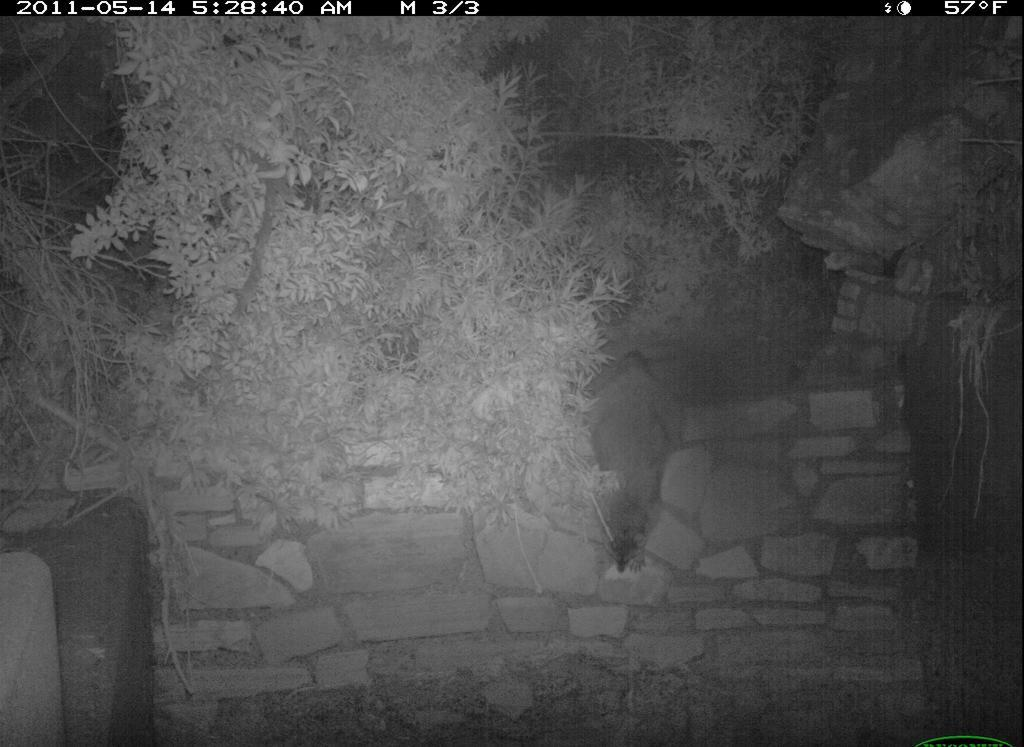raccoon: (560, 333, 694, 584)
